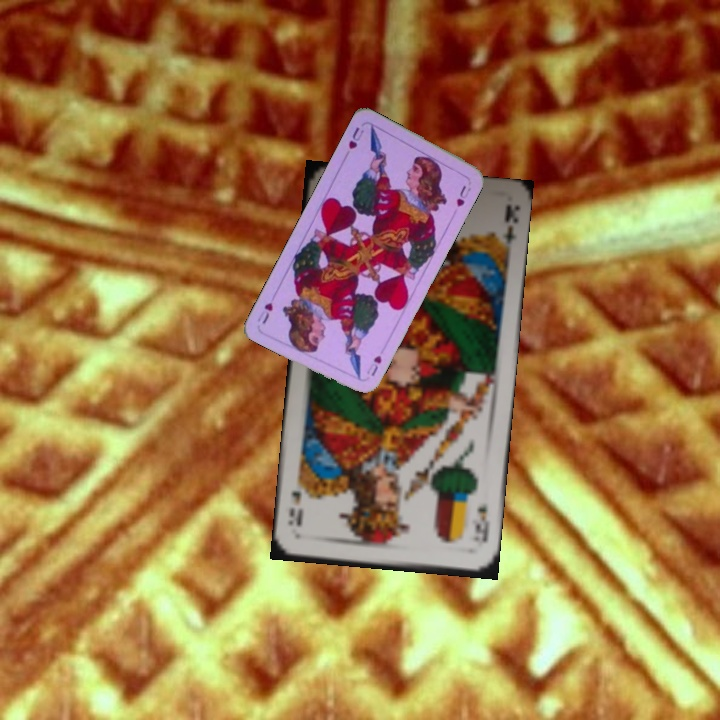EK: (471, 499, 493, 545)
HU: (344, 123, 367, 152), (362, 351, 384, 379)
